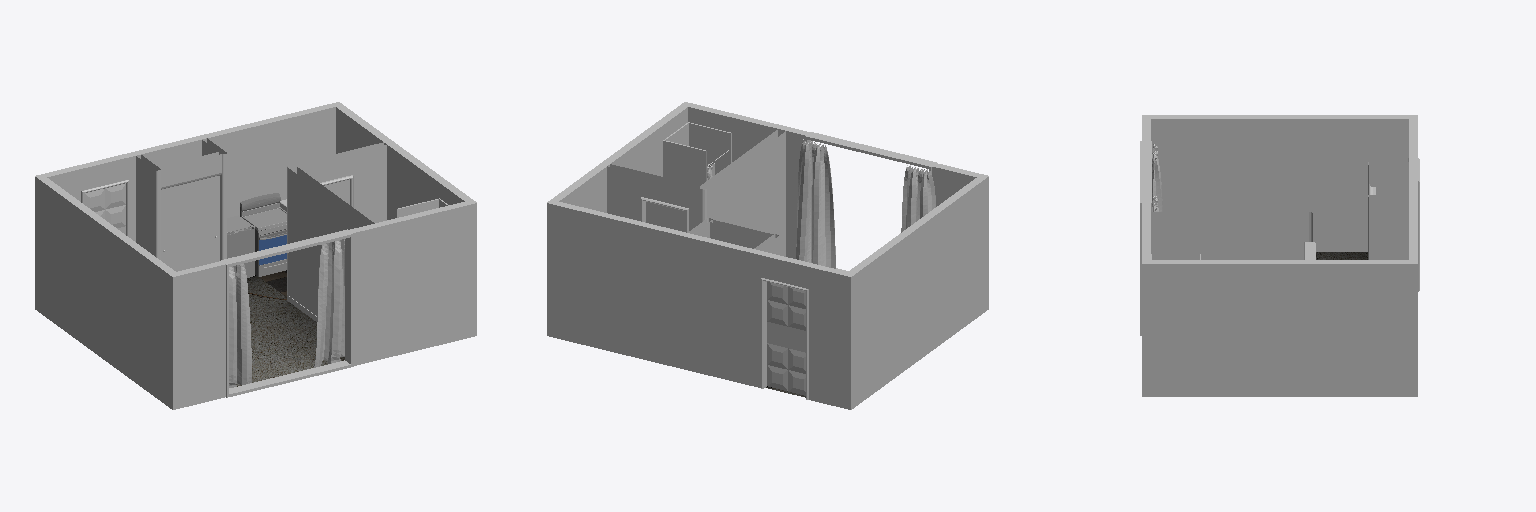
The picture shows the model from 3 angles: view 1: azimuth 30°, elevation 25°; view 2: azimuth 150°, elevation 25°; view 3: azimuth 270°, elevation 25°; orthographic projection.
Parts seen in each view (by area): view 1: Cube.005_Cube.014, Cube.007_Cube.016, Cube_Cube.001, Cube.002_Cube.011, Plane.004_Plane.005, Plane, Cube.004_Cube.013, Cube.011_Cube.026, Cube.006_Cube.015, Cube.001_Cube.020, Cube.003_Cube.012, cloestdoor2_Cube.027 (+4 smaller); view 2: Cube_Cube.001, Cube.005_Cube.014, Cube.004_Cube.013, Plane.004_Plane.005, door1_Cube.004, Cube.006_Cube.015, Cube.007_Cube.016, Cube.012_Cube, Cube.003_Cube.012, Cube.002_Cube.011, Cube.011_Cube.026, Cube.001_Cube.020 (+2 smaller); view 3: Cube.006_Cube.015, Cube.005_Cube.014, Cube.004_Cube.013, Cube.011_Cube.026, Cube_Cube.001, Cube.007_Cube.016, Cube.001_Cube.020, Plane.004_Plane.005.
Boxes of the visible parts, x1=… form: Cube.005_Cube.014: x1=39, y1=178, x2=175, y2=405; Cube.007_Cube.016: x1=349, y1=200, x2=476, y2=365; Cube_Cube.001: x1=35, y1=102, x2=342, y2=311; Cube.002_Cube.011: x1=168, y1=261, x2=225, y2=409; Plane.004_Plane.005: x1=229, y1=239, x2=344, y2=387; Plane: x1=236, y1=270, x2=344, y2=386; Cube.004_Cube.013: x1=287, y1=162, x2=374, y2=315; Cube.011_Cube.026: x1=136, y1=138, x2=226, y2=260; Cube.006_Cube.015: x1=336, y1=105, x2=472, y2=219; Cube.001_Cube.020: x1=221, y1=229, x2=353, y2=397; Cube.003_Cube.012: x1=302, y1=142, x2=386, y2=222; cloestdoor2_Cube.027: x1=190, y1=176, x2=219, y2=267; Cube_Cube.001: x1=547, y1=200, x2=855, y2=409; Cube.005_Cube.014: x1=848, y1=178, x2=984, y2=405; Cube.004_Cube.013: x1=689, y1=130, x2=785, y2=256; Plane.004_Plane.005: x1=796, y1=139, x2=935, y2=268; door1_Cube.004: x1=767, y1=282, x2=805, y2=395; Cube.006_Cube.015: x1=551, y1=105, x2=687, y2=212; Cube.007_Cube.016: x1=681, y1=102, x2=808, y2=258; Cube.012_Cube: x1=663, y1=122, x2=731, y2=185; Cube.003_Cube.012: x1=607, y1=164, x2=691, y2=220; Cube.002_Cube.011: x1=932, y1=163, x2=988, y2=311; Cube.011_Cube.026: x1=688, y1=218, x2=778, y2=254; Cube.001_Cube.020: x1=804, y1=132, x2=936, y2=271; Cube.006_Cube.015: x1=1151, y1=260, x2=1408, y2=396; Cube.005_Cube.014: x1=1151, y1=115, x2=1408, y2=246; Cube.004_Cube.013: x1=1151, y1=212, x2=1312, y2=259; Cube.011_Cube.026: x1=1368, y1=162, x2=1408, y2=259; Cube_Cube.001: x1=1409, y1=115, x2=1417, y2=396; Cube.007_Cube.016: x1=1142, y1=203, x2=1150, y2=396; Cube.001_Cube.020: x1=1140, y1=141, x2=1151, y2=335; Plane.004_Plane.005: x1=1152, y1=144, x2=1162, y2=211.
Bounding box in the file's own units: 5.84 × 2.44 × 4.65.
28 materials, 1 textured.